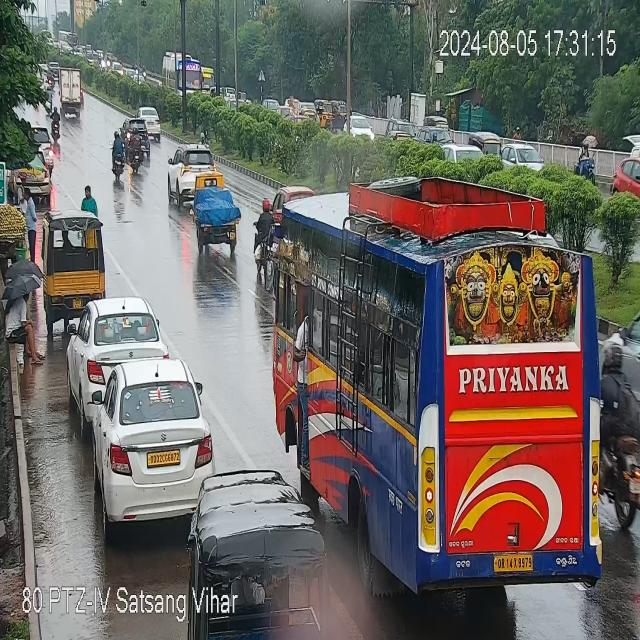2-wheelers: (594, 314, 636, 516), (254, 198, 284, 270), (108, 133, 128, 182), (577, 134, 597, 176), (132, 126, 146, 176), (136, 126, 149, 162), (51, 108, 61, 142), (46, 86, 53, 110)
auto: (197, 467, 330, 640), (44, 213, 106, 322), (192, 169, 235, 255)
bus: (268, 161, 614, 521)
car: (94, 358, 212, 523), (74, 303, 165, 411), (168, 138, 195, 202), (611, 157, 640, 192), (17, 160, 48, 192), (34, 125, 54, 172), (145, 108, 162, 143)
pedestrian: (0, 251, 43, 359), (24, 188, 38, 257), (83, 183, 100, 215)
truck: (60, 64, 80, 114)
